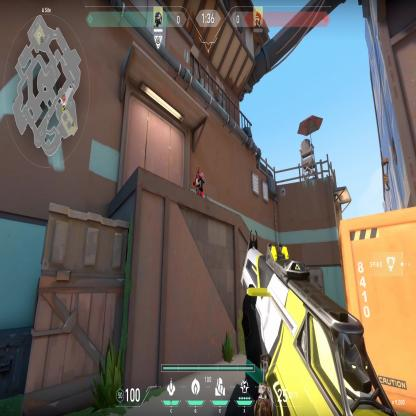enemy: (192, 164, 206, 200)
